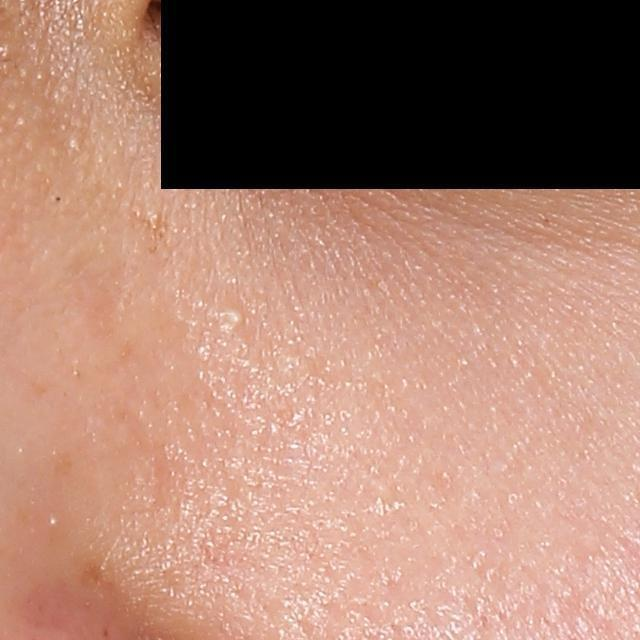comedo: (225, 304, 245, 327), (48, 192, 67, 207)
melasma: (127, 204, 178, 260)
